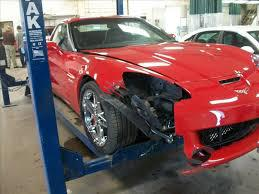fender-dent: (94, 62, 151, 98)
